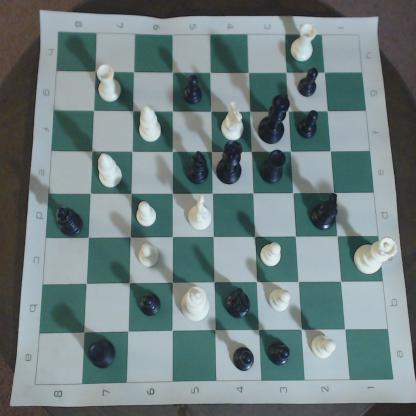black-bishop: (58, 206, 85, 239), (186, 152, 211, 183)
black-king: (258, 93, 292, 146)
black-knight: (311, 194, 340, 231), (226, 288, 252, 320)
black-pawn: (299, 67, 320, 98), (299, 109, 320, 140), (138, 293, 164, 318), (183, 76, 204, 106), (267, 343, 292, 366), (233, 346, 255, 371)
black-queen: (215, 139, 244, 186)
black-rook: (88, 340, 118, 370), (263, 150, 287, 187)
white-bishop: (98, 149, 124, 189), (139, 107, 163, 143)
white-king: (181, 285, 212, 324)
white-knight: (222, 101, 247, 143), (189, 195, 213, 233)
white-pawn: (313, 335, 339, 362), (260, 242, 285, 268), (269, 288, 292, 314), (137, 202, 159, 229), (139, 244, 161, 269)
white-queen: (355, 236, 399, 275)
white-rook: (290, 23, 318, 63), (97, 64, 123, 104)
